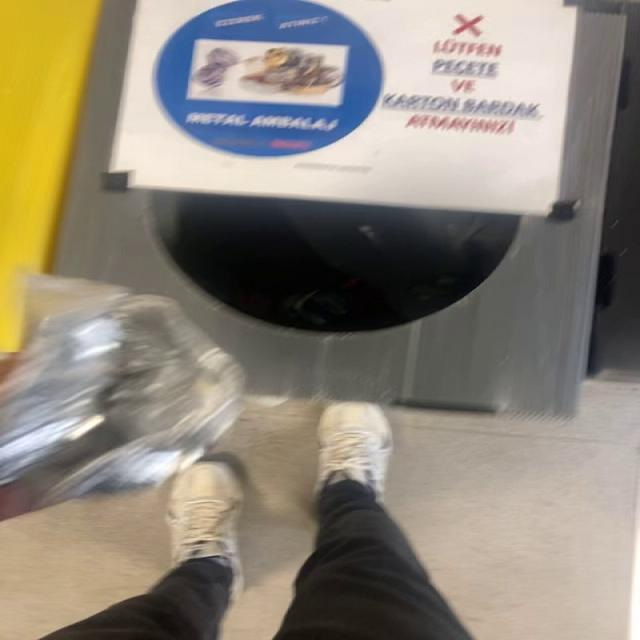metal: (1, 287, 244, 518)
